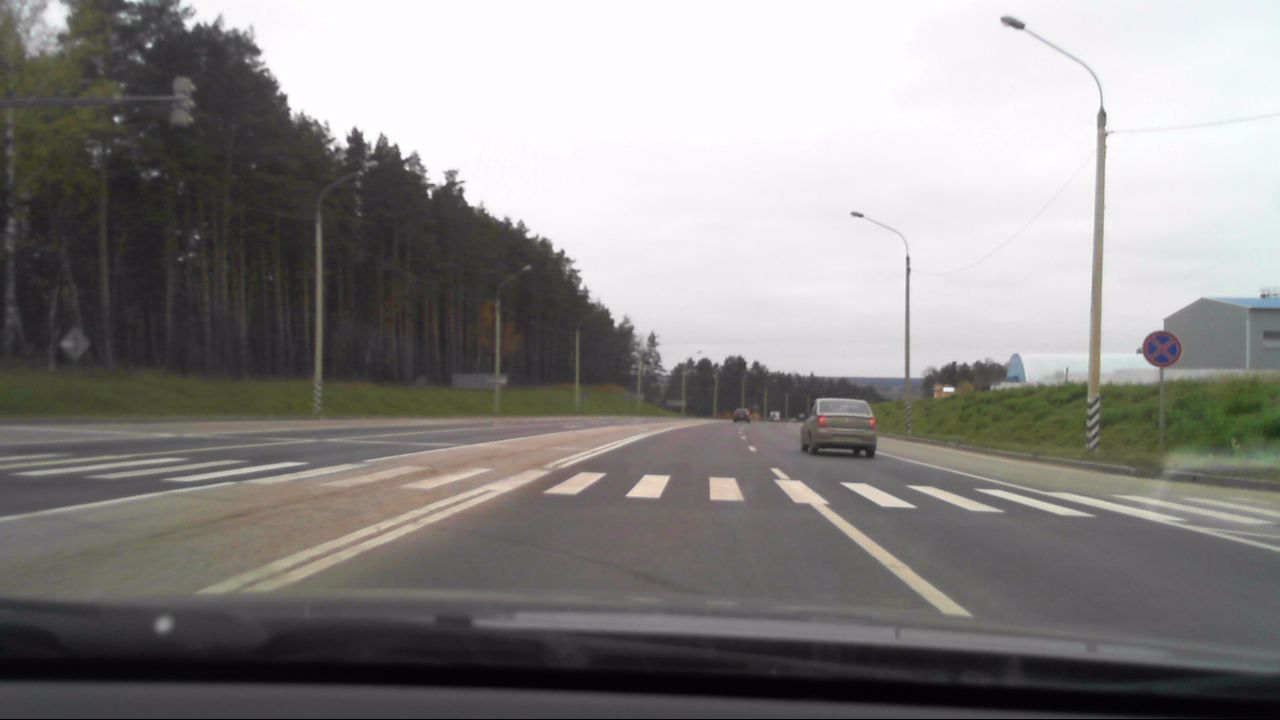No Parking: (1142, 327, 1181, 367)
